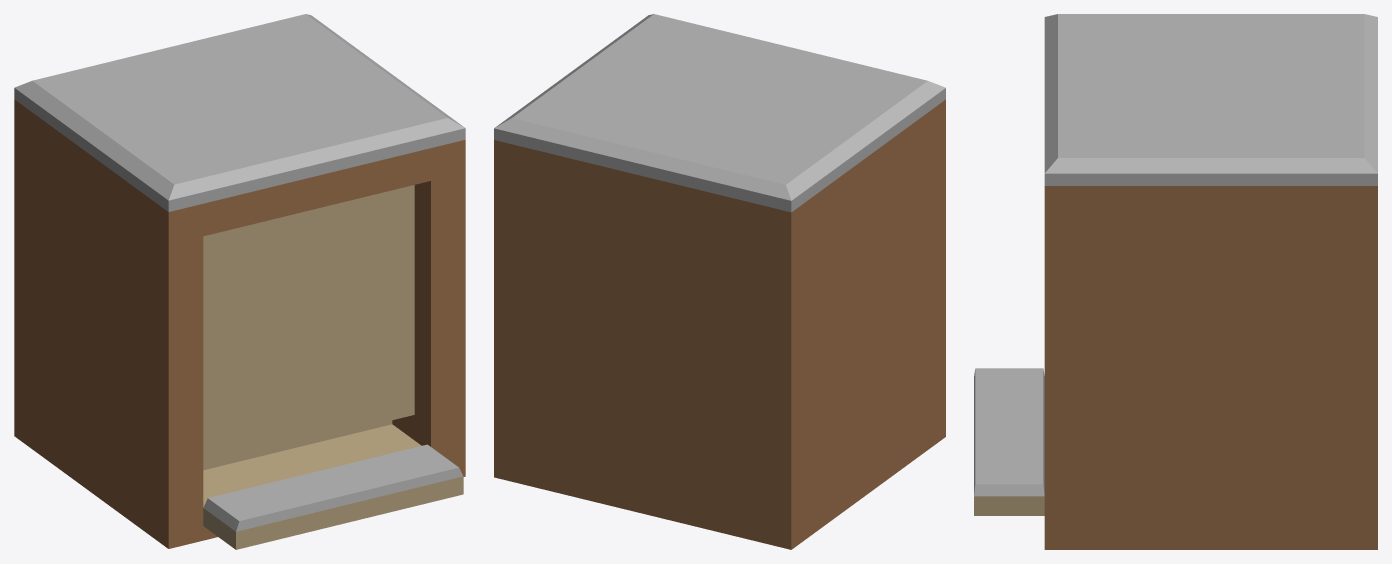
File: Beehive_1 Winter.fbx
3 renders of one model, left to right at view 1: azimuth 30°, elevation 25°; view 2: azimuth 150°, elevation 25°; view 3: azimuth 270°, elevation 25°, orthographic. The views are drawn at different scales.
Parts seen in each view (by area): view 1: BeehiveWinter_mesh; view 2: BeehiveWinter_mesh; view 3: BeehiveWinter_mesh.
Boxes of the visible parts, left/top/right/bottom form: BeehiveWinter_mesh: left=14, top=14, right=465, bottom=549; BeehiveWinter_mesh: left=494, top=14, right=945, bottom=549; BeehiveWinter_mesh: left=974, top=14, right=1377, bottom=549.
Size of the model in its own units: 59.22 by 68.05 by 64.57.
